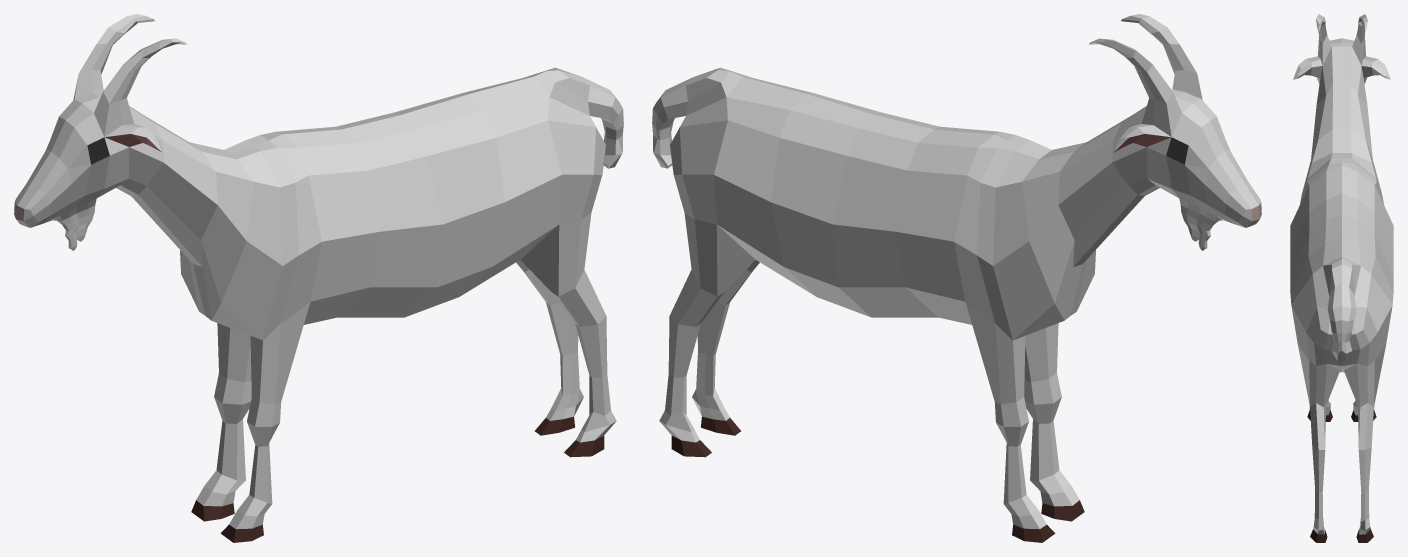
Rendered from goat.glb.
3 views of the same model, side by side, from view 1: azimuth 30°, elevation 25°; view 2: azimuth 150°, elevation 25°; view 3: azimuth 270°, elevation 25° (orthographic). The views are drawn at different scales.
Visible parts, largest first — view 1: Plane; view 2: Plane; view 3: Plane.
Part boxes in pixels (left/top/right/bottom): Plane: left=14, top=14, right=623, bottom=542; Plane: left=652, top=14, right=1261, bottom=542; Plane: left=1290, top=14, right=1393, bottom=542.
Bounding box in the file's own units: 2.32 × 1.88 × 0.4759.
